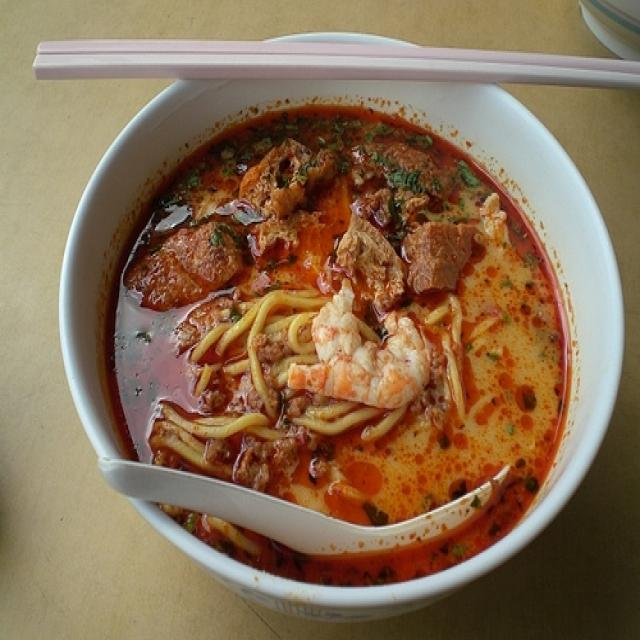面条主食: (43, 36, 620, 599)
